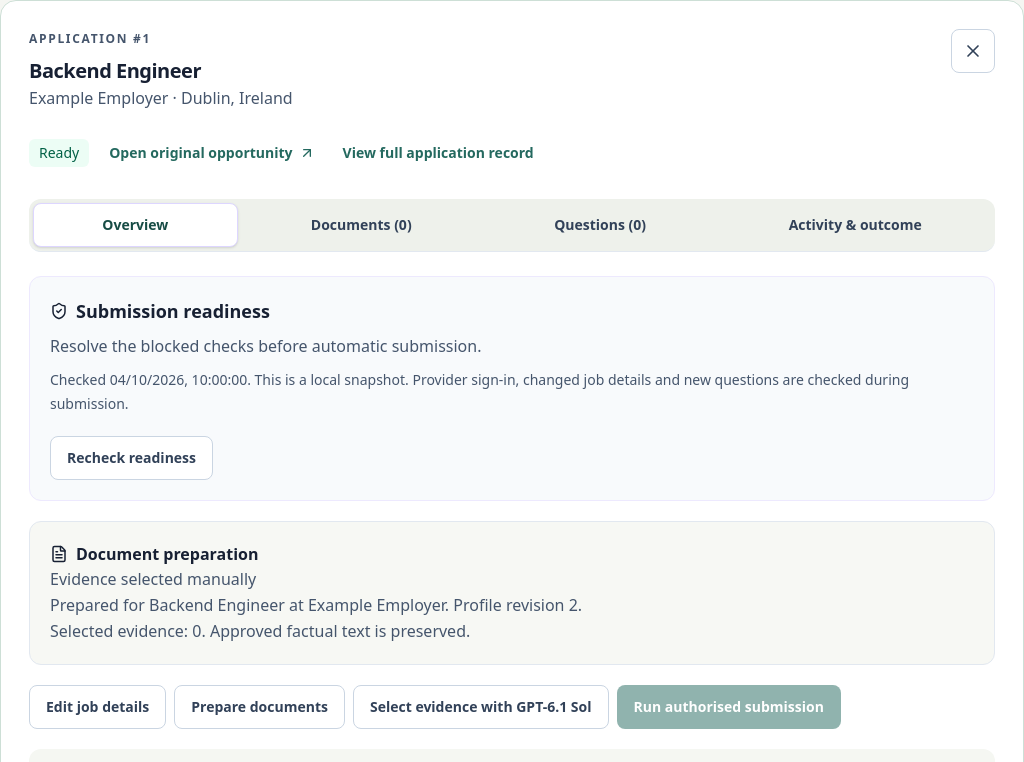
it: explains provenance and absent evidence faithfully: manual
Expected: the button "Run authorised submission" is disabled, [616,685,841,729]
Expected: the text "Evidence selected manually" is shown, [50,568,256,590]
Click the tab "Documents (0)" at (361, 224), box [242,202,481,246]
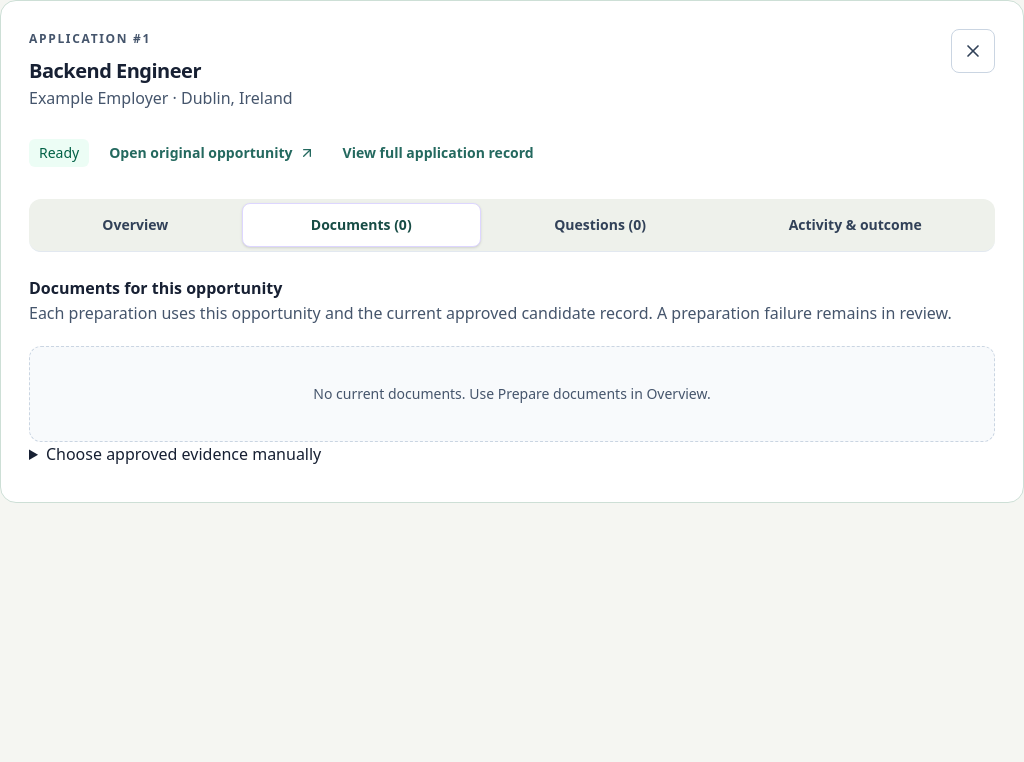
Result: the text "No current documents. Use Prepare documents in Overview." is shown at [29,346,995,442]
